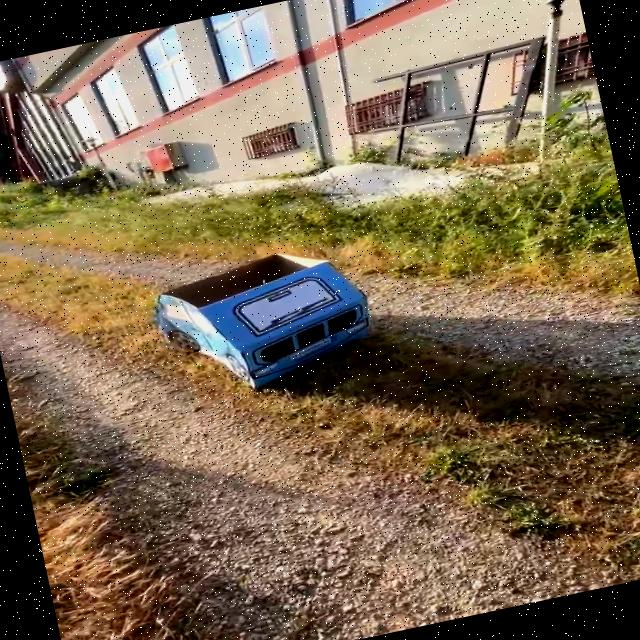blue_car: (101, 204, 449, 461)
